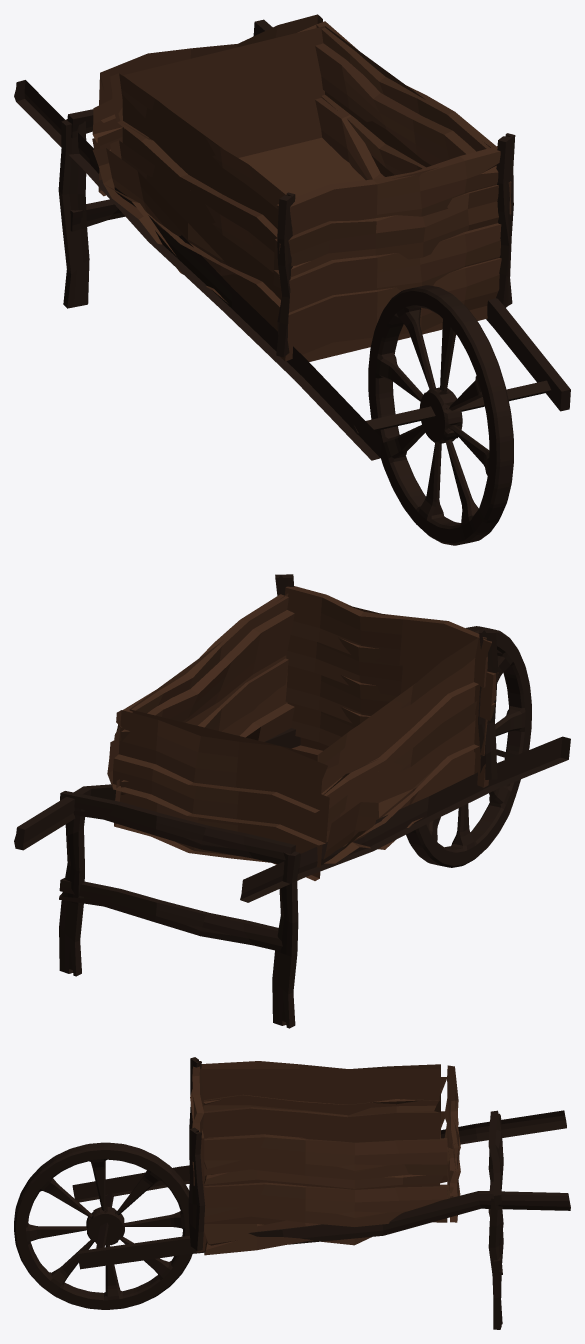
Rendered from wheelbarrow.fbx.
The picture shows the model from 3 angles, top to bottom: view 1: azimuth 30°, elevation 25°; view 2: azimuth 150°, elevation 25°; view 3: azimuth 270°, elevation 25°; orthographic projection. The views are drawn at different scales.
Parts seen in each view (by area): view 1: Wheel; view 2: Wheel; view 3: Wheel.
Boxes of the visible parts, x1,y1,x2,y2 form: Wheel: (14, 14, 570, 545); Wheel: (14, 574, 570, 1028); Wheel: (14, 1057, 570, 1329).
Size of the model in its own units: 174 by 203 by 458.
